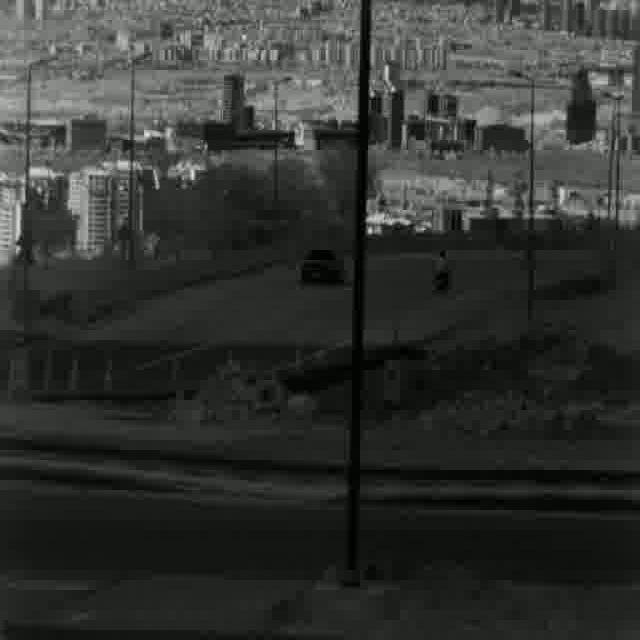Car: (296, 248, 348, 292)
Motorcycle: (431, 251, 451, 297)
